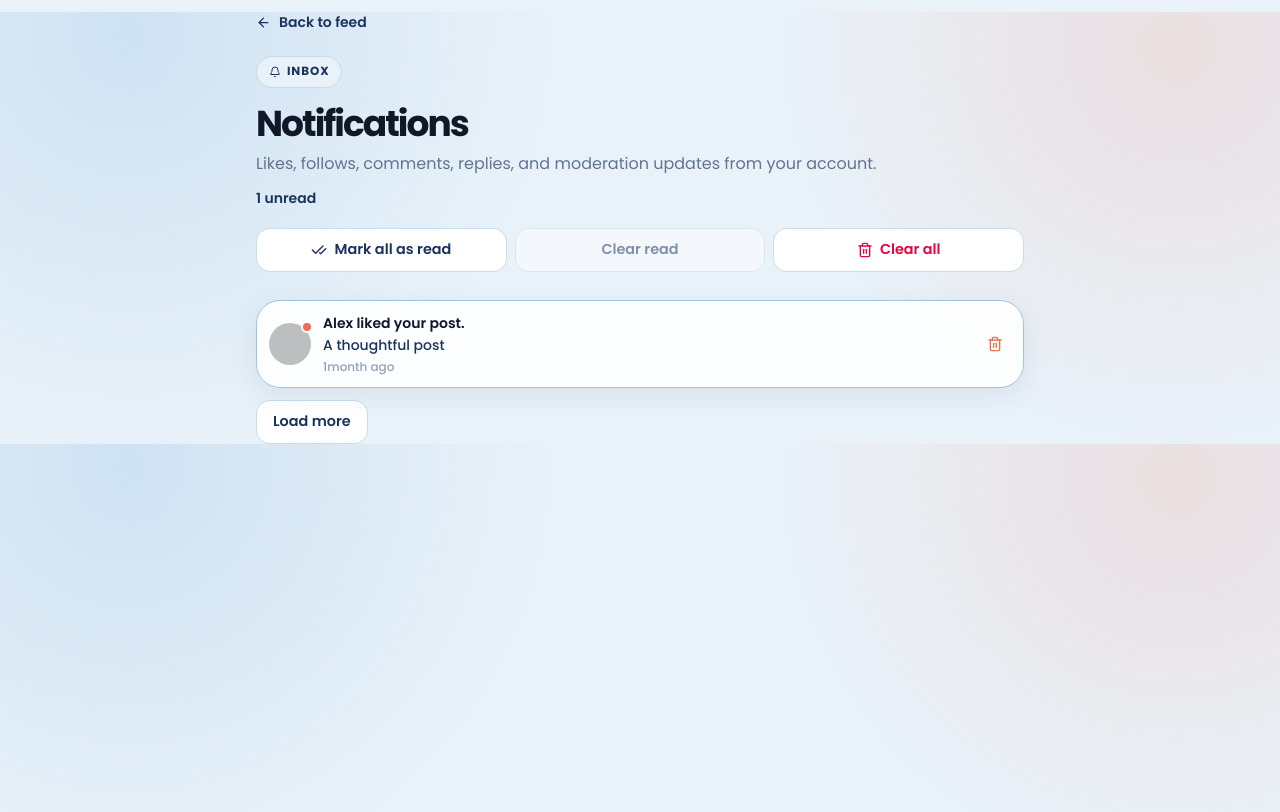
Test case: NotificationsPage › deletes one notification and clears read notifications
This screenshot has width=1280, height=812.
Click the button named "Delete notification notification-1".
click(995, 344)  # box [979,328,1011,360]
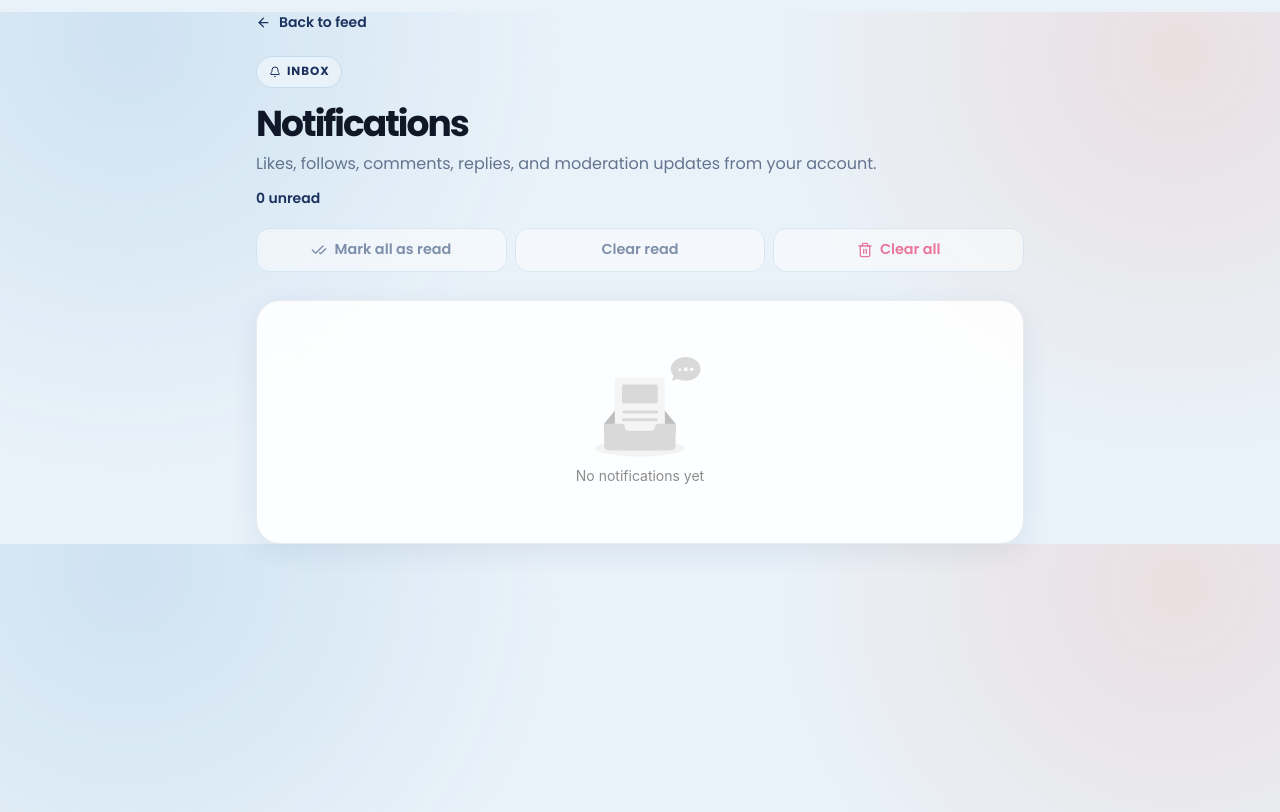
Expected: the text "No notifications yet" is shown, [576,466,704,484]
